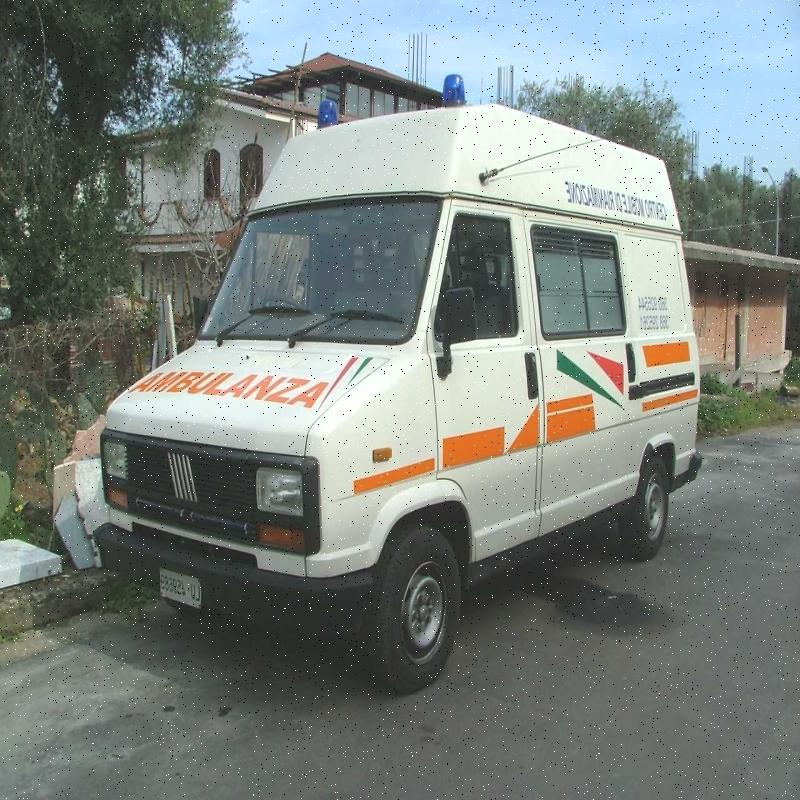AmbulanceSiren: (436, 62, 473, 116), (302, 89, 338, 137)
